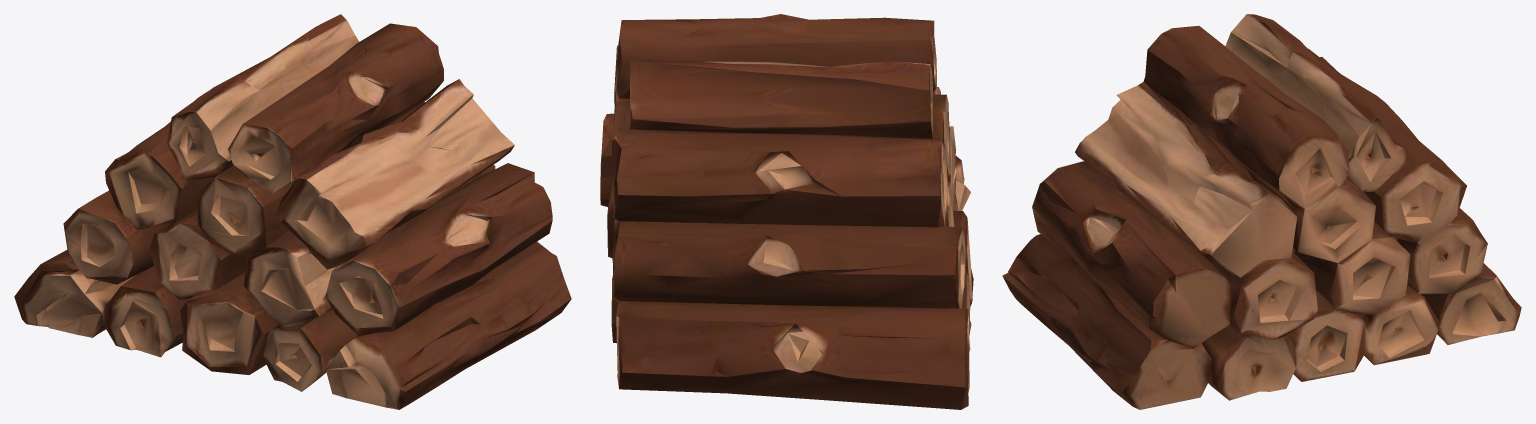
File: fuel_firewood_polenya_idle.glb
3 views of the same model, side by side, from view 1: azimuth 30°, elevation 25°; view 2: azimuth 150°, elevation 25°; view 3: azimuth 270°, elevation 25° (orthographic). The views are drawn at different scales.
Visible parts, largest first — view 1: tripo_node_ae55796e-0586-4510-9584-8e5657fa479d; view 2: tripo_node_ae55796e-0586-4510-9584-8e5657fa479d; view 3: tripo_node_ae55796e-0586-4510-9584-8e5657fa479d.
Part boxes in pixels (bbox=[...]): tripo_node_ae55796e-0586-4510-9584-8e5657fa479d: bbox=[14, 14, 571, 409]; tripo_node_ae55796e-0586-4510-9584-8e5657fa479d: bbox=[600, 14, 973, 409]; tripo_node_ae55796e-0586-4510-9584-8e5657fa479d: bbox=[1002, 14, 1521, 409].
Bounding box in the file's own units: 0.4002 × 0.2216 × 0.4182.
1 material, 1 textured.
